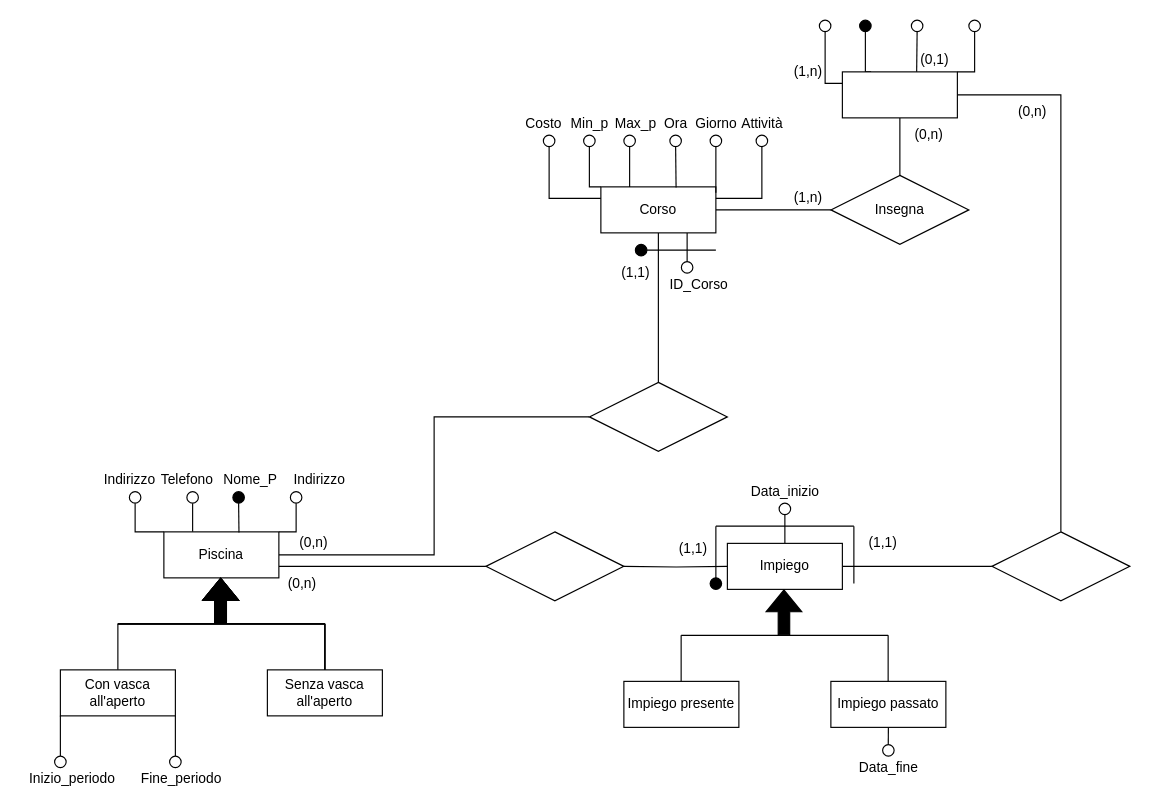
Some shapes in this 1150 by 811 pixel diagram are drawn without their labels. The shapes that lost their labels are listed below. From the top down, each one's centre as x and y in pixels, then its label:
At pixel 899 94: "Insegnante".
At pixel 657 416: "Location".
At pixel 554 566: "Impiegante".
At pixel 1060 566: "Impiegato".
